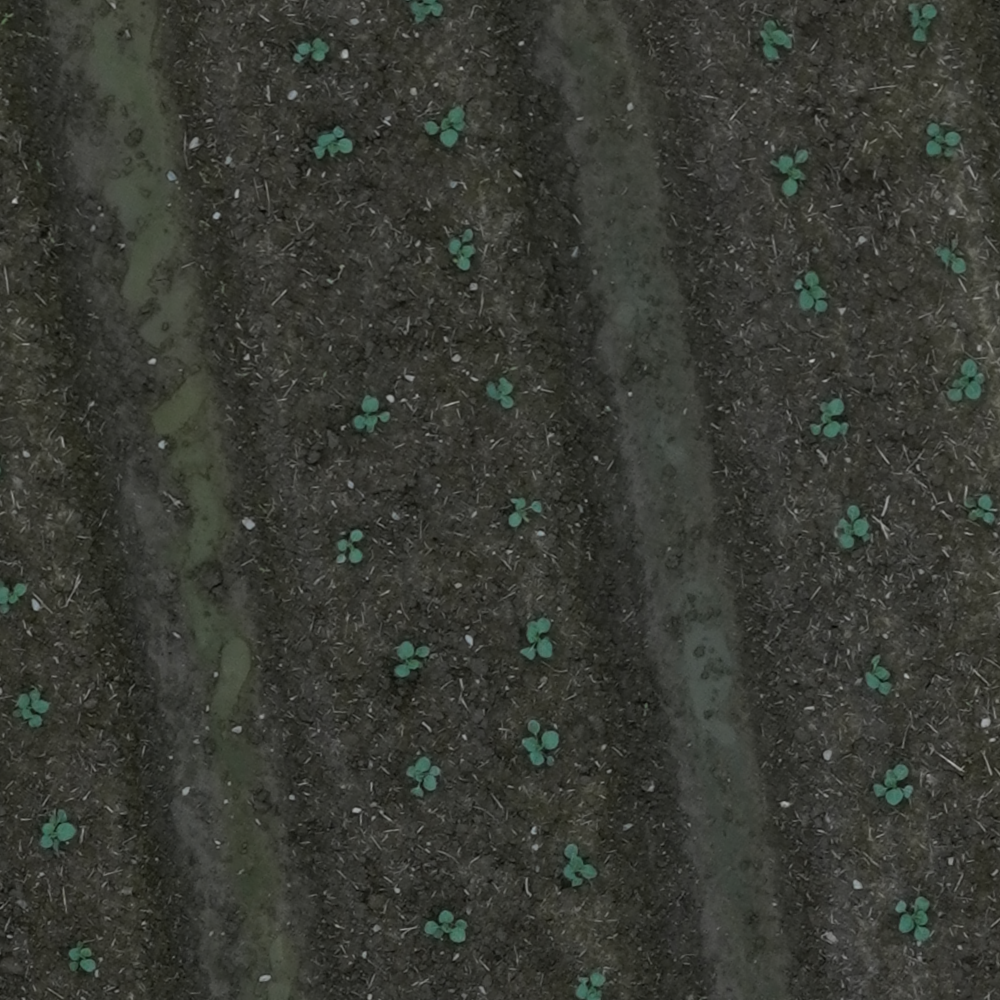Cabbage: (522, 720, 560, 767), (771, 149, 808, 196), (424, 106, 466, 146), (874, 765, 913, 807), (947, 358, 985, 401), (896, 896, 930, 941), (809, 399, 849, 437), (13, 688, 51, 728), (838, 505, 871, 551), (563, 843, 598, 886), (40, 809, 76, 850), (759, 20, 794, 61), (424, 910, 468, 942), (353, 395, 391, 432), (795, 270, 828, 312), (520, 618, 553, 660), (407, 756, 440, 796), (395, 641, 431, 677), (314, 126, 353, 159), (926, 124, 962, 158), (448, 229, 476, 271), (908, 4, 938, 43), (865, 655, 893, 695), (508, 497, 542, 527), (336, 529, 363, 564), (964, 494, 995, 524), (487, 377, 515, 409), (294, 38, 329, 63), (936, 246, 967, 274), (576, 972, 606, 1000), (1, 583, 28, 613), (69, 942, 96, 971), (411, 0, 443, 23)
